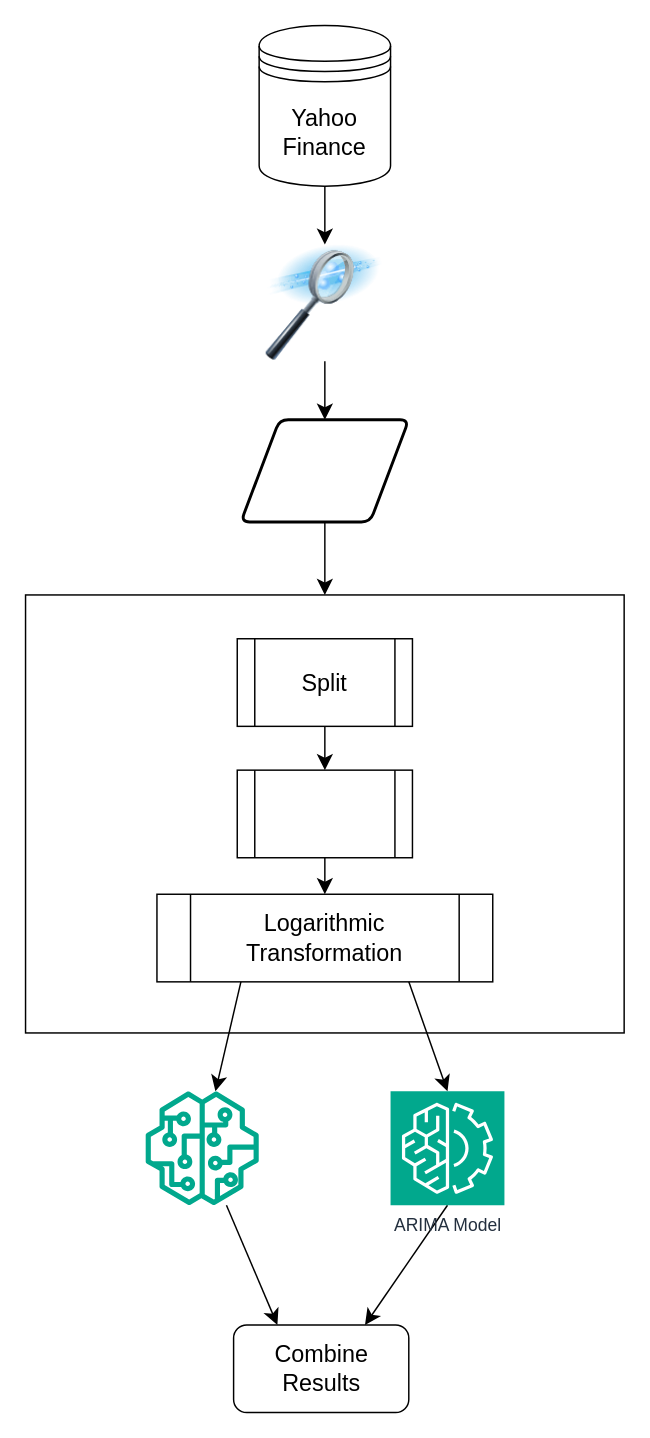
This 650x1438 diagram has some shape labels left out. Each missing label, with the box of its shape:
Analyze: (236, 769, 412, 858)
Filtered Data: (239, 418, 410, 523)
Holt-Winters Exponential smoothing: (145, 1091, 258, 1204)
